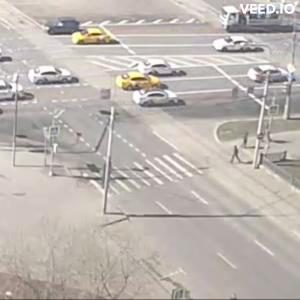car: (29, 65, 77, 87), (135, 90, 186, 109), (117, 70, 163, 91), (249, 66, 295, 86), (73, 27, 118, 47), (214, 36, 262, 54), (2, 81, 36, 105), (48, 19, 82, 38), (147, 63, 186, 79)
